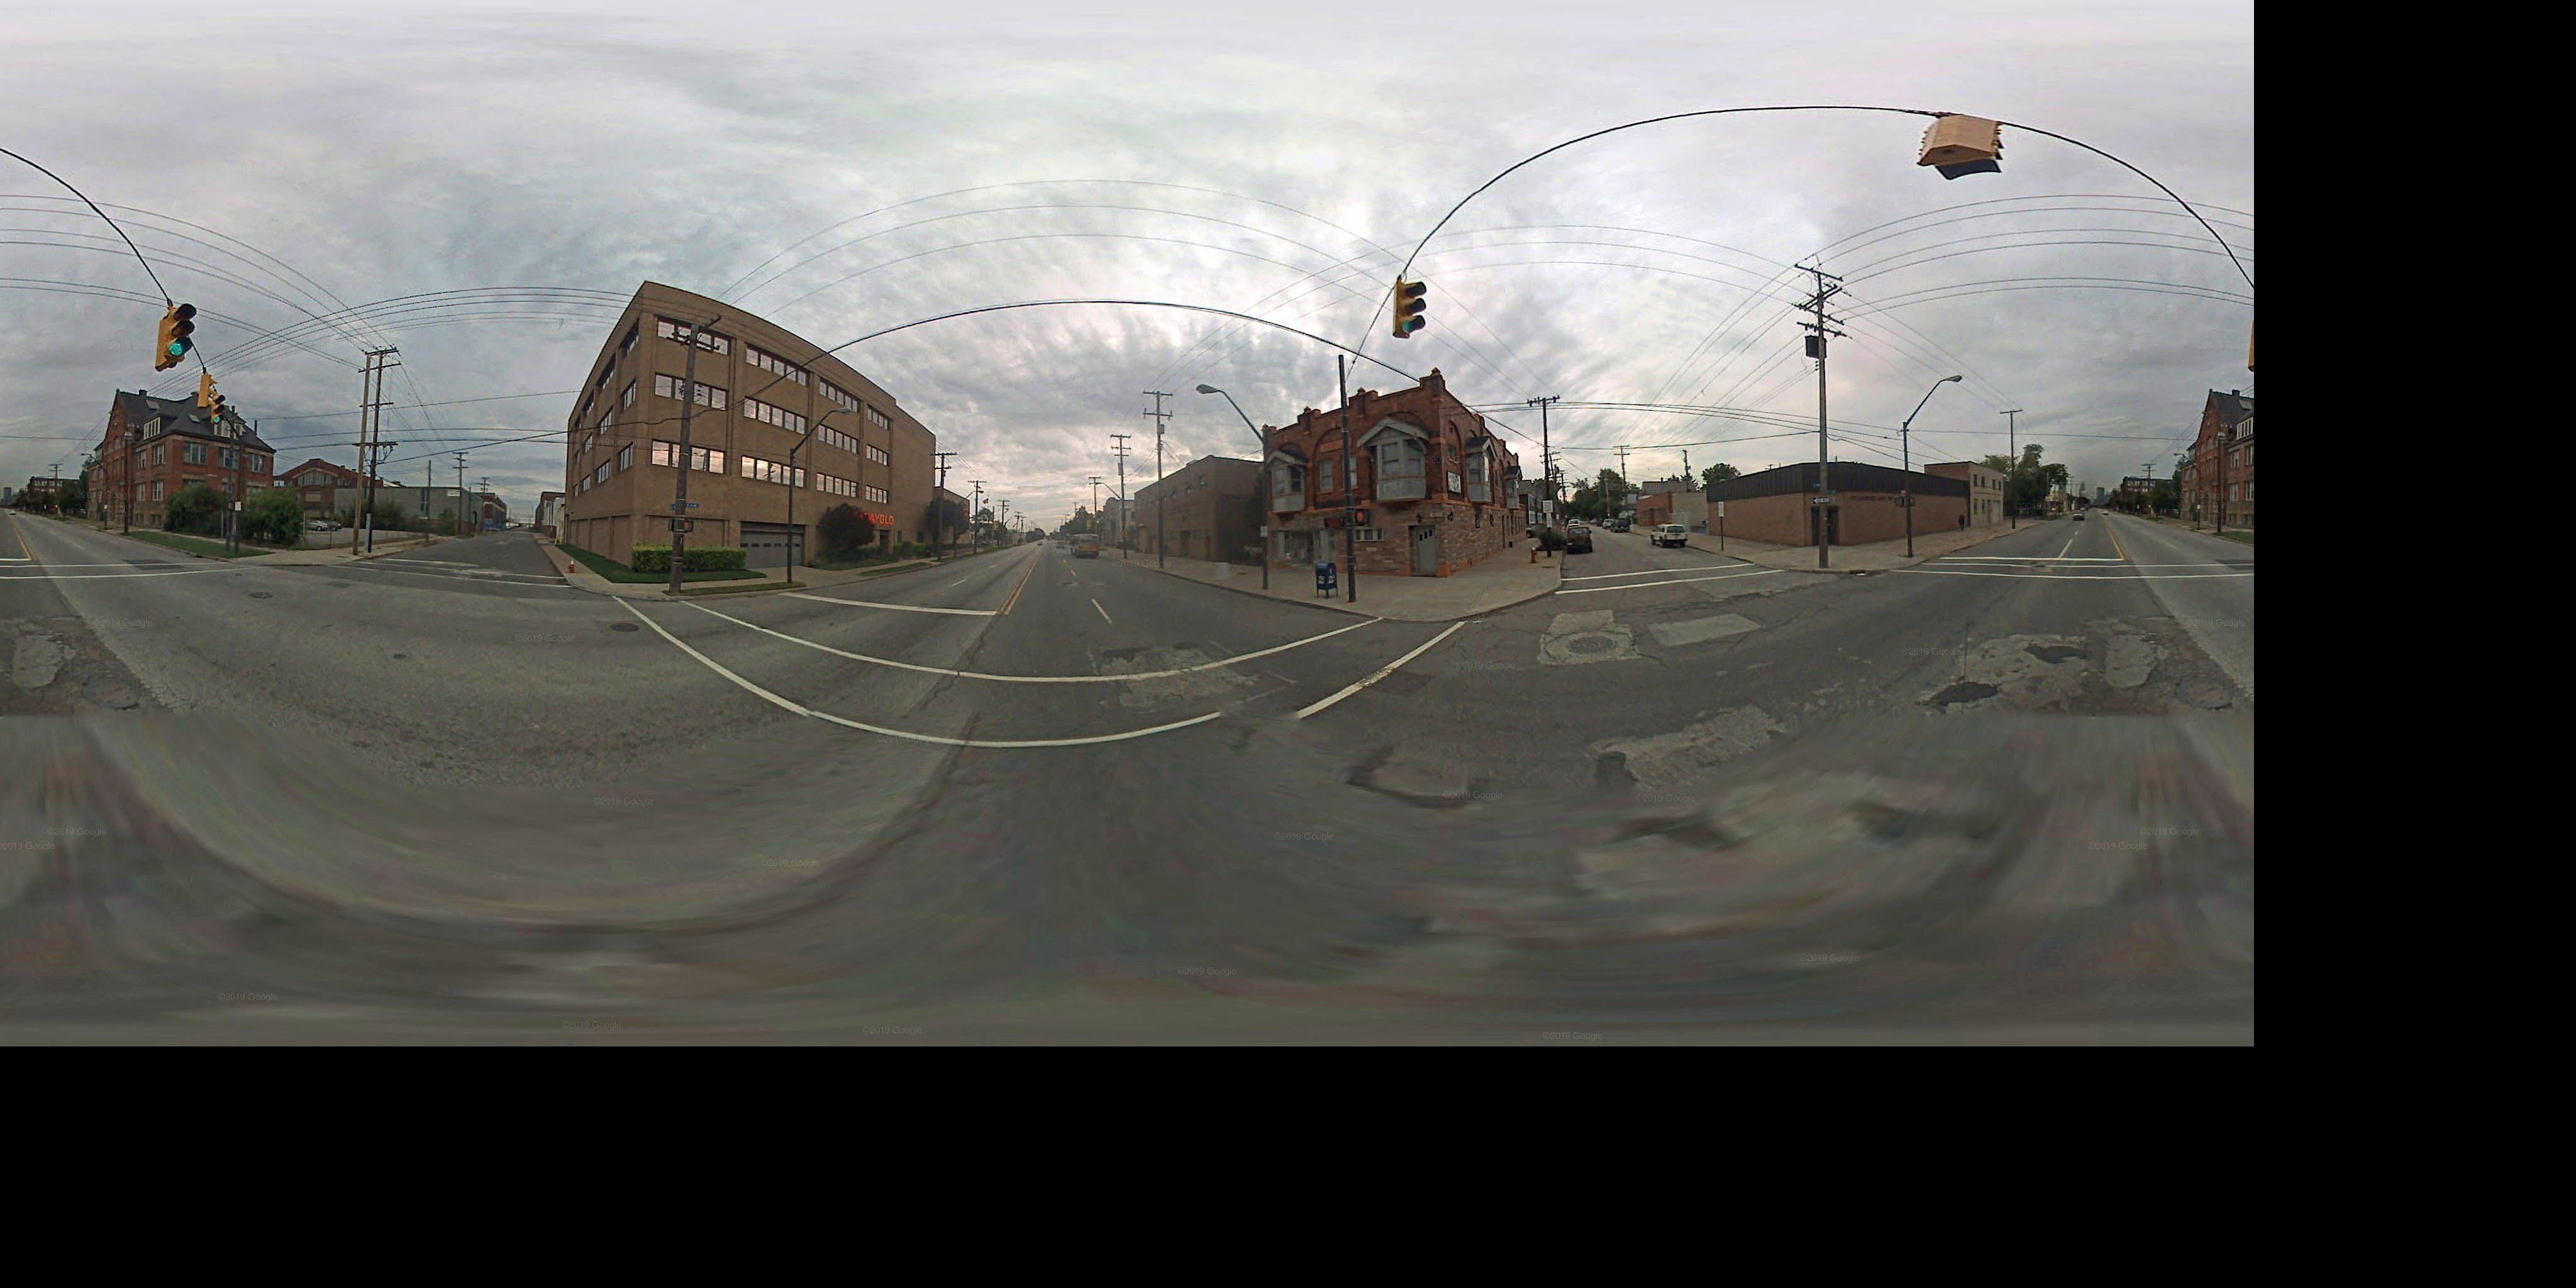Curb Ramp: (1380, 601, 1460, 637), (613, 585, 672, 611), (1868, 550, 1922, 577), (1529, 568, 1574, 600), (1755, 549, 1789, 580), (230, 550, 271, 575), (555, 568, 586, 593), (319, 554, 352, 572)
